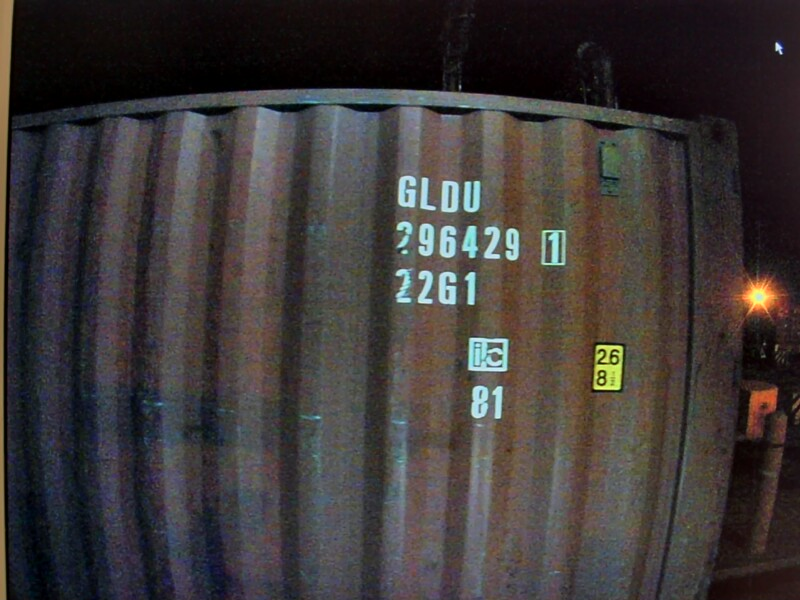container_no_door: (12, 79, 681, 599)
